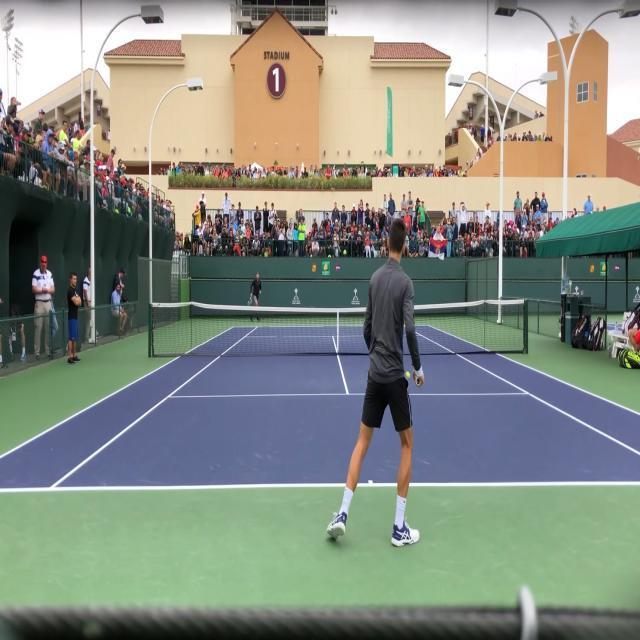court: (0, 323, 640, 494)
net: (145, 294, 531, 362)
player: (326, 217, 424, 548)
